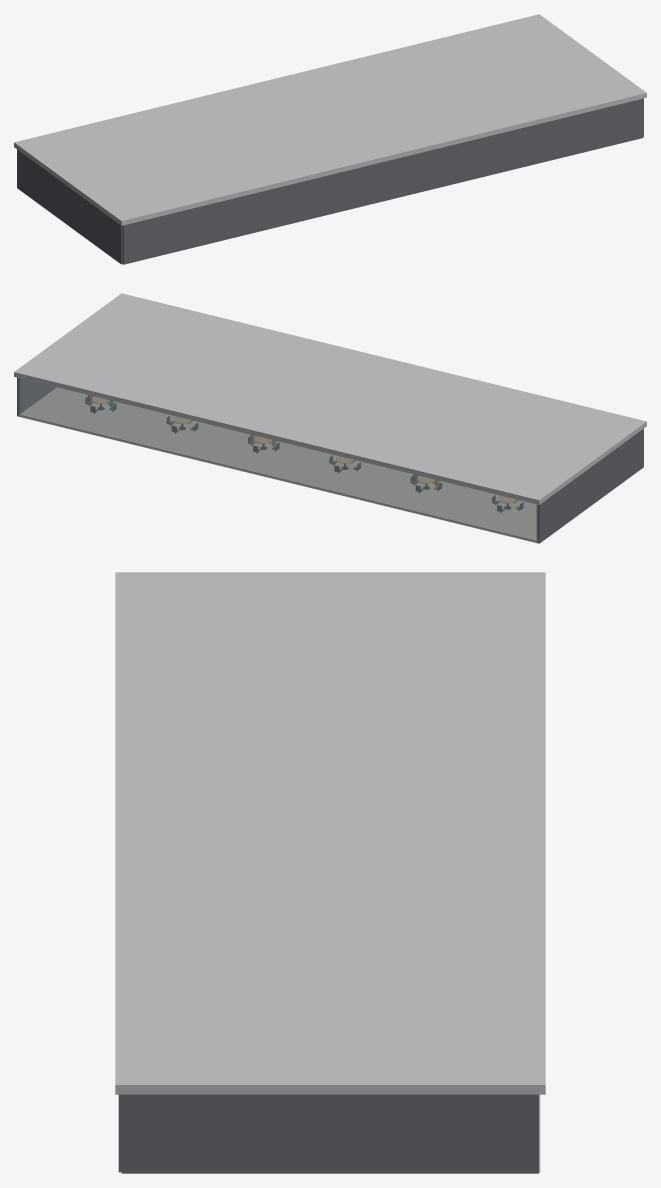
The model's file is canteen.glb.
3 views of the same model, one above another, from view 1: azimuth 30°, elevation 25°; view 2: azimuth 150°, elevation 25°; view 3: azimuth 270°, elevation 25° (orthographic). The views are drawn at different scales.
Parts seen in each view (by area): view 1: Cnt_Roof, Cnt_Wall_Back, Cnt_Wall_Left; view 2: Cnt_Roof, Cnt_Wall_FrontGlass, Cnt_Floor, Cnt_Wall_Left, Cnt_Wall_Right; view 3: Cnt_Roof, Cnt_Wall_Right.
Part boxes in pixels (left/top/right/bottom): Cnt_Roof: left=14, top=14, right=646, bottom=225; Cnt_Wall_Back: left=122, top=98, right=643, bottom=264; Cnt_Wall_Left: left=17, top=149, right=122, bottom=264; Cnt_Roof: left=14, top=293, right=646, bottom=504; Cnt_Wall_FrontGlass: left=18, top=378, right=537, bottom=543; Cnt_Floor: left=18, top=387, right=538, bottom=542; Cnt_Wall_Left: left=536, top=428, right=643, bottom=543; Cnt_Wall_Right: left=17, top=377, right=56, bottom=416; Cnt_Roof: left=115, top=572, right=545, bottom=1094; Cnt_Wall_Right: left=121, top=1094, right=539, bottom=1173.
Size of the model in its own units: 46.5 by 3.8 by 16.5.
